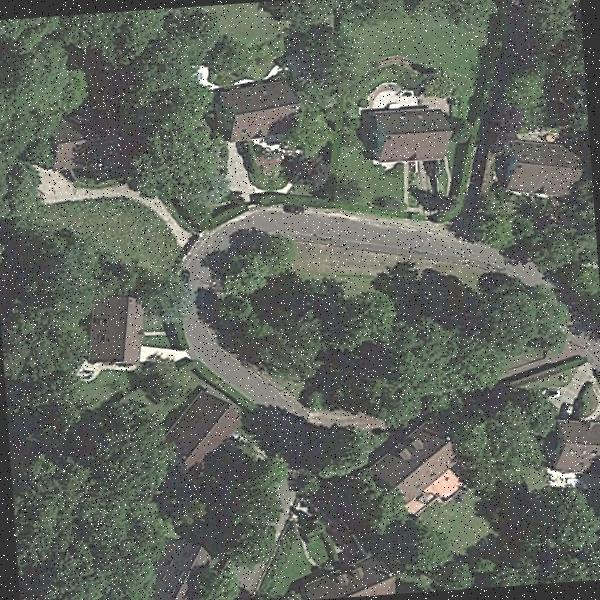Buildings: (370, 107, 462, 162), (176, 388, 243, 460), (90, 295, 148, 366), (222, 86, 305, 134), (55, 112, 120, 172), (384, 434, 450, 488), (304, 558, 392, 596), (510, 146, 578, 190), (556, 411, 600, 459)
